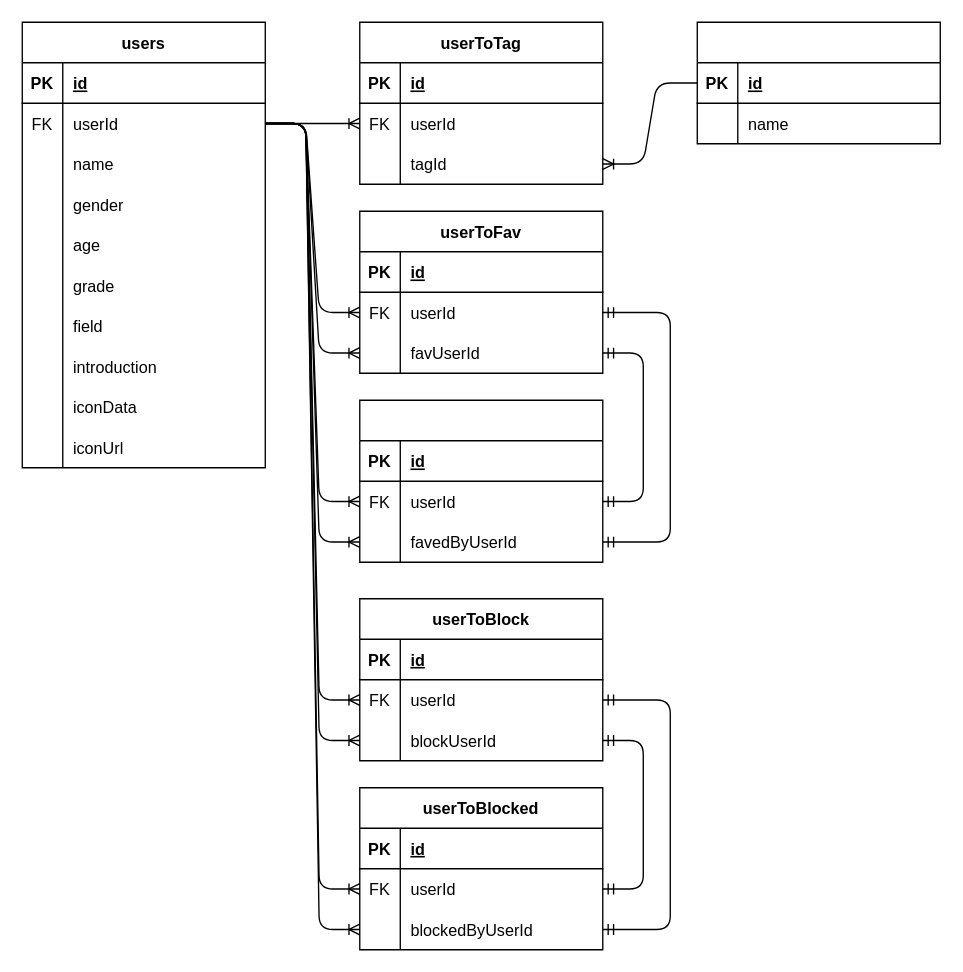
This 963x972 diagram has some shape labels left out. The box of each missing label's shape, as (x1, y1, x2, y2) in pixels:
tags: (696, 21, 940, 144)
userToFaved: (358, 399, 603, 562)
